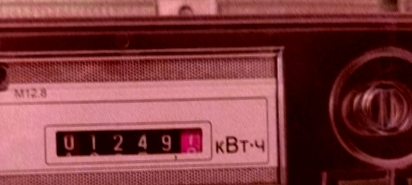0: (62, 130, 76, 151)
1: (87, 131, 98, 150)
2: (111, 131, 125, 151)
4: (136, 131, 148, 150)
7: (184, 127, 197, 146)
9: (159, 131, 173, 152)
screen: (36, 117, 212, 165)
